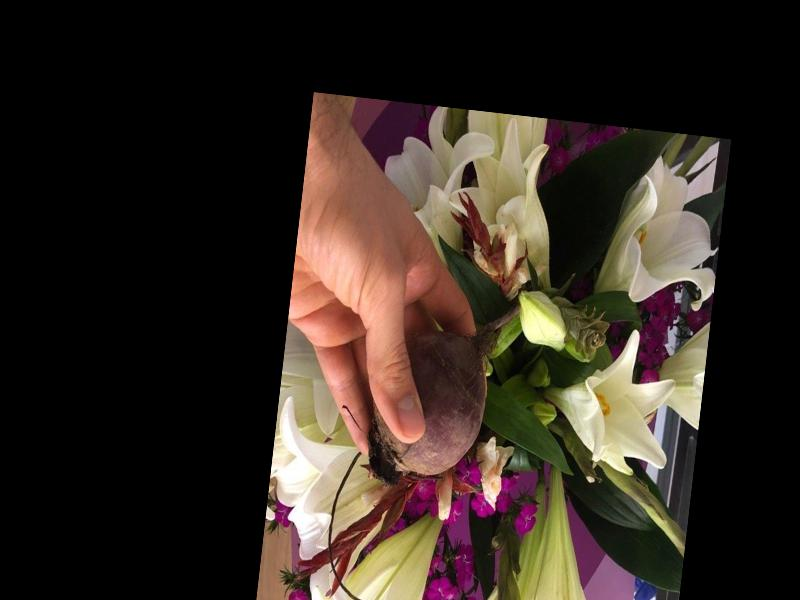Beet: (363, 284, 523, 497)
